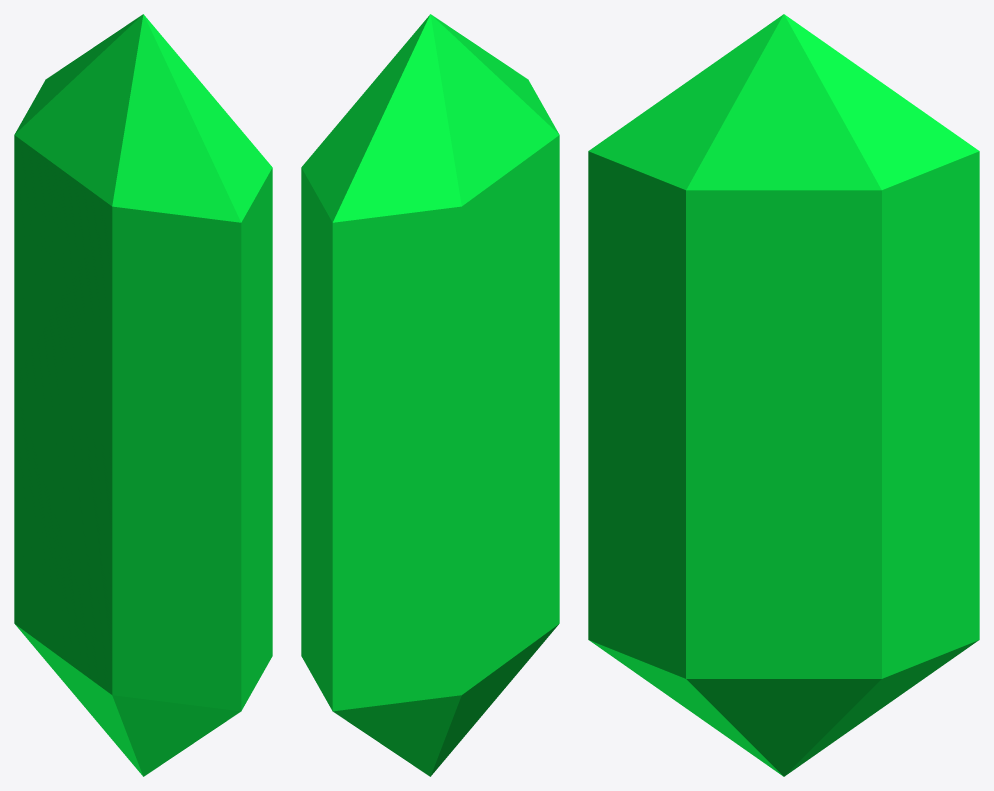
Rendered from Rupi.fbx.
3 views of the same model, side by side, from view 1: azimuth 30°, elevation 25°; view 2: azimuth 150°, elevation 25°; view 3: azimuth 270°, elevation 25° (orthographic).
Parts seen in each view (by area): view 1: Cylinder; view 2: Cylinder; view 3: Cylinder.
Part boxes in pixels (left/top/right/bottom): Cylinder: left=14, top=14, right=272, bottom=776; Cylinder: left=301, top=14, right=559, bottom=776; Cylinder: left=588, top=14, right=979, bottom=776.
Size of the model in its own units: 94.68 by 430 by 200.
